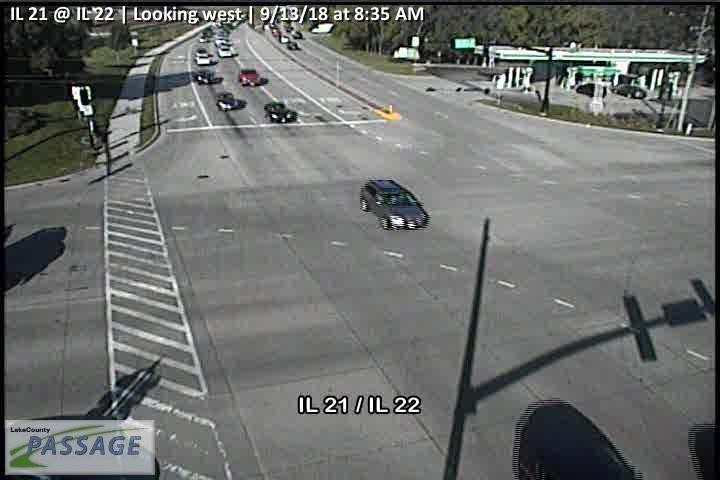SUV: (360, 178, 429, 231), (264, 103, 294, 124), (239, 68, 257, 87)
Sedan: (214, 93, 237, 112), (195, 68, 214, 85)
